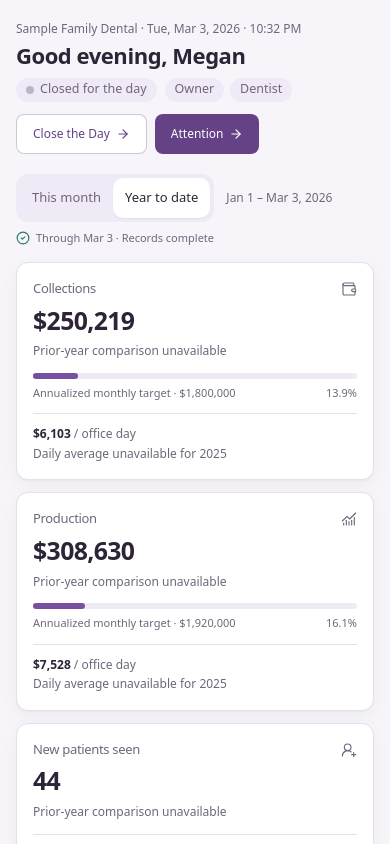
daily financial pulse › includes a sealed day in this month’s real totals
Click the button "This month" at (66, 198), box [20,178,113,218]
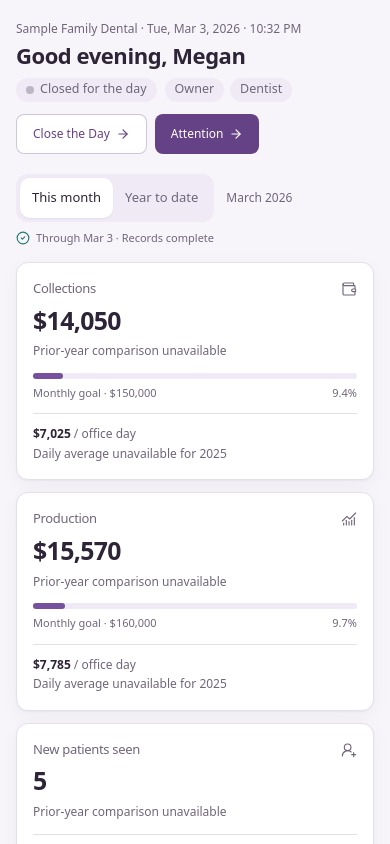
Expected: the text "$15,570" is shown, [33,533,121,567]
Expected: the text "$14,050" is shown, [33,302,121,336]
